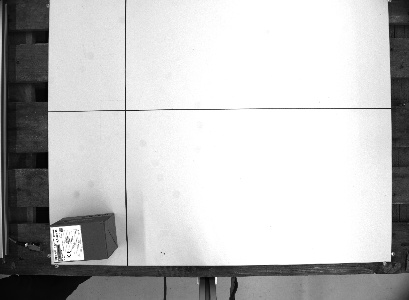b4: (48, 212, 119, 264)
